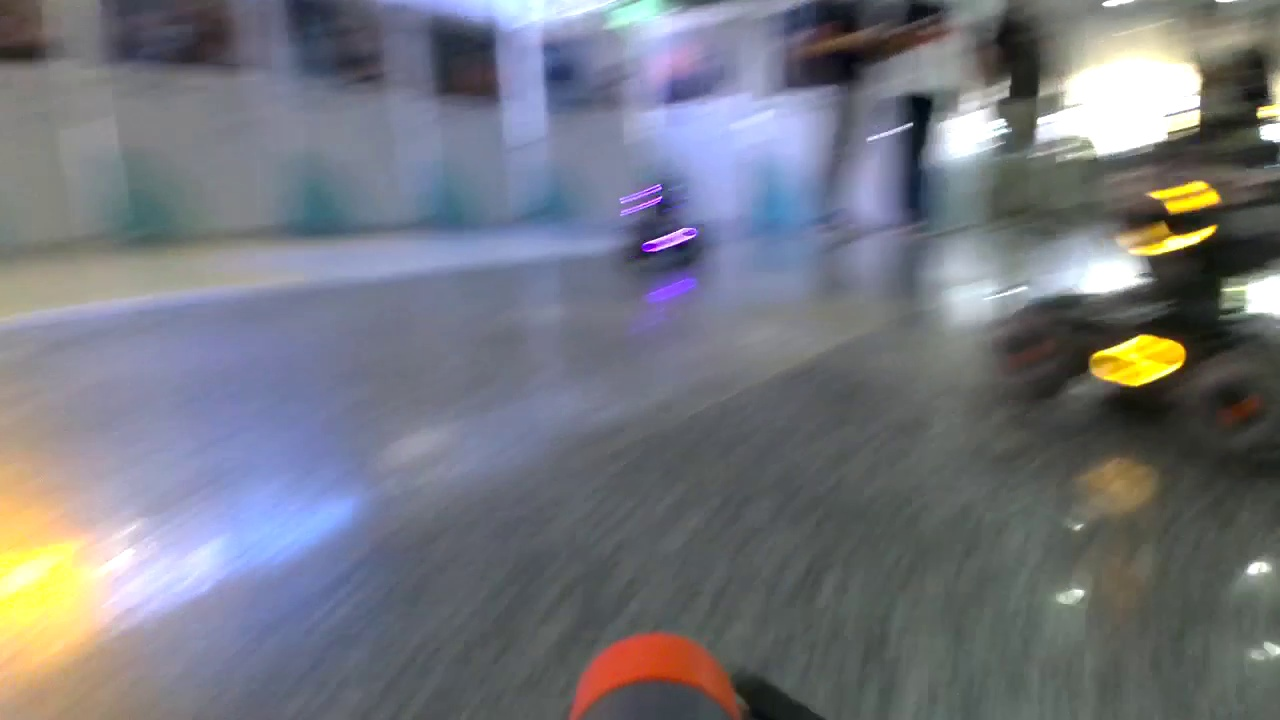robot: (996, 180, 1280, 458), (622, 181, 702, 268)
